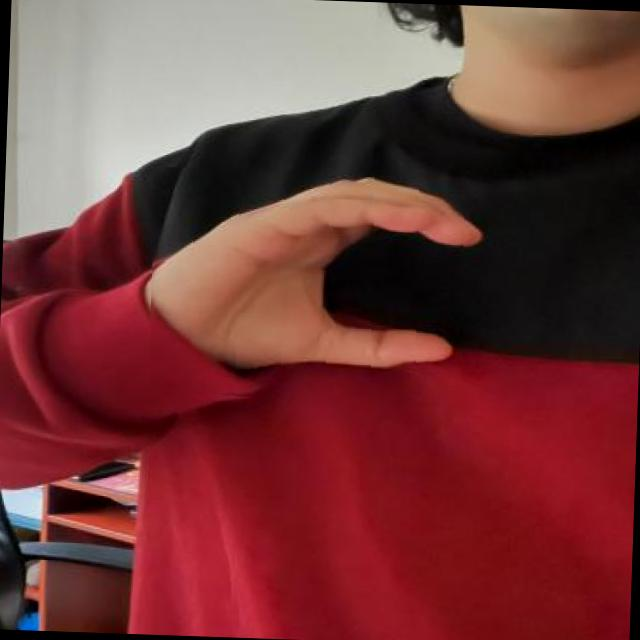C: (145, 166, 487, 410)
